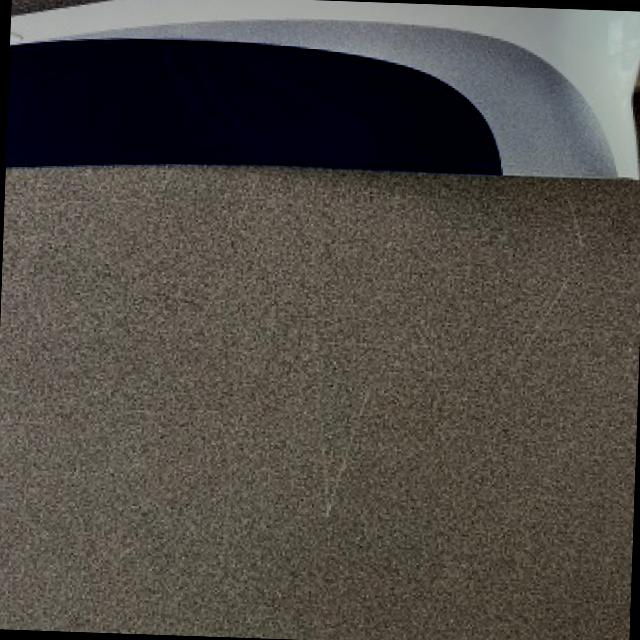healthy: (12, 0, 640, 175), (9, 52, 167, 162)
